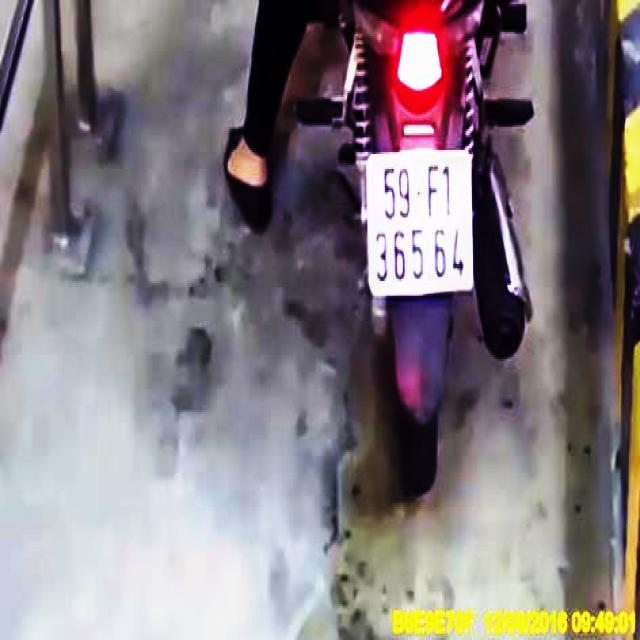license_plate: (367, 153, 474, 295)
